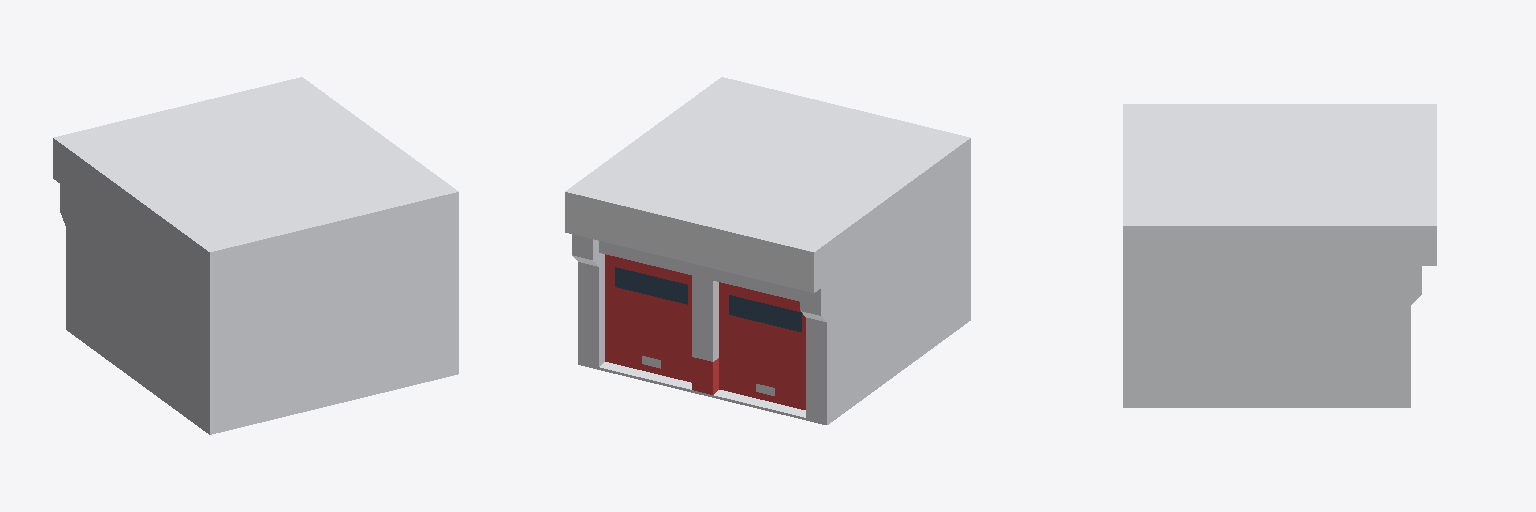
Rendered from pitsGarageClosed_exclusive.obj.
The picture shows the model from 3 angles: view 1: azimuth 30°, elevation 25°; view 2: azimuth 150°, elevation 25°; view 3: azimuth 270°, elevation 25°; orthographic projection.
Visible parts, largest first — view 1: pitsGarageClosed_exclusive; view 2: pitsGarageClosed_exclusive; view 3: pitsGarageClosed_exclusive.
Part boxes in pixels (x1,y1,x2,y2): pitsGarageClosed_exclusive: (53,77,458,434); pitsGarageClosed_exclusive: (565,77,970,424); pitsGarageClosed_exclusive: (1123,104,1436,407).
Bounding box in the file's own units: 10 × 7 × 10.9.